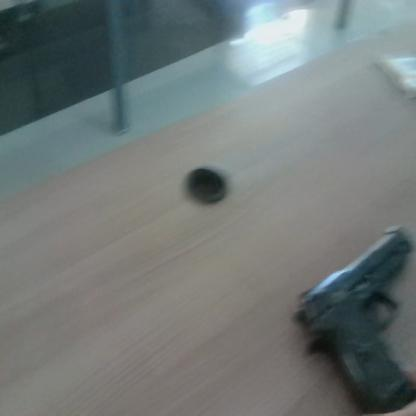handgun: (279, 204, 414, 416)
